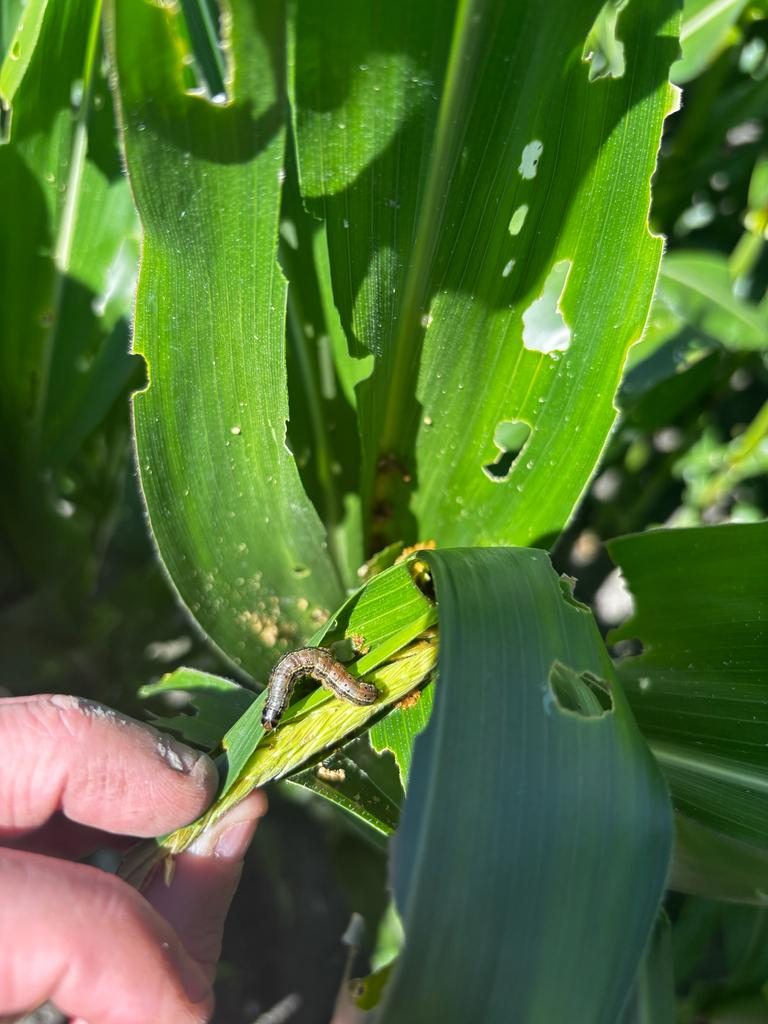caterpillars: (234, 616, 413, 764)
